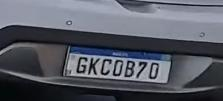Placa_mercosul_carro: (63, 44, 173, 84)
